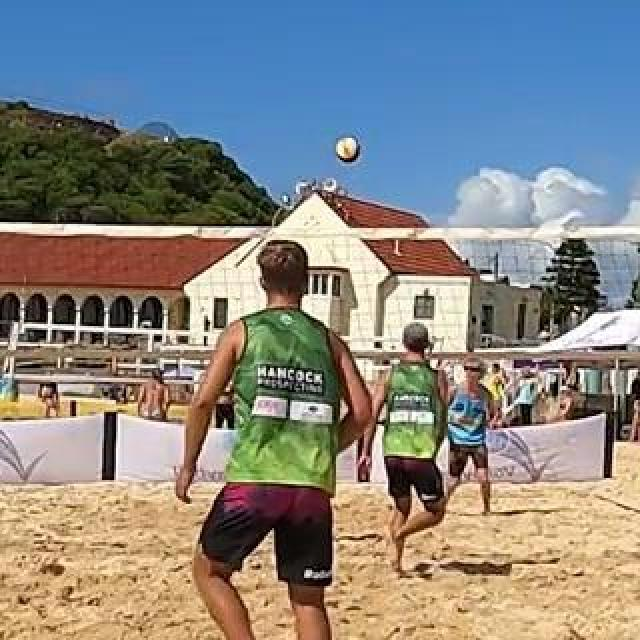volleyball: (336, 136, 362, 162)
